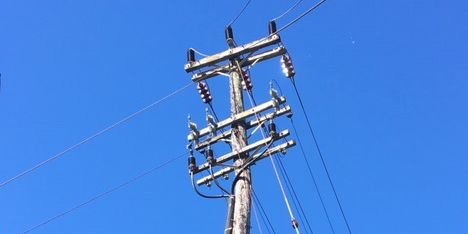utility_pole: (169, 13, 305, 202)
